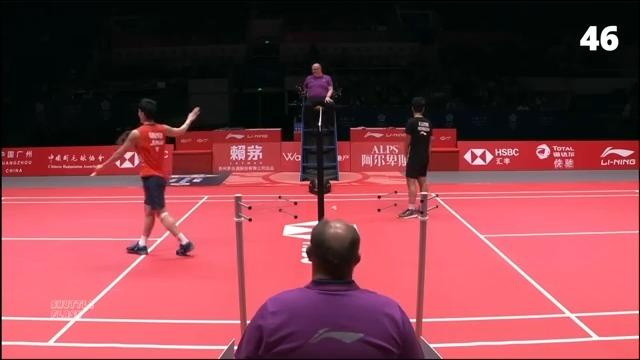Shuttlecock: (330, 202, 340, 212)
